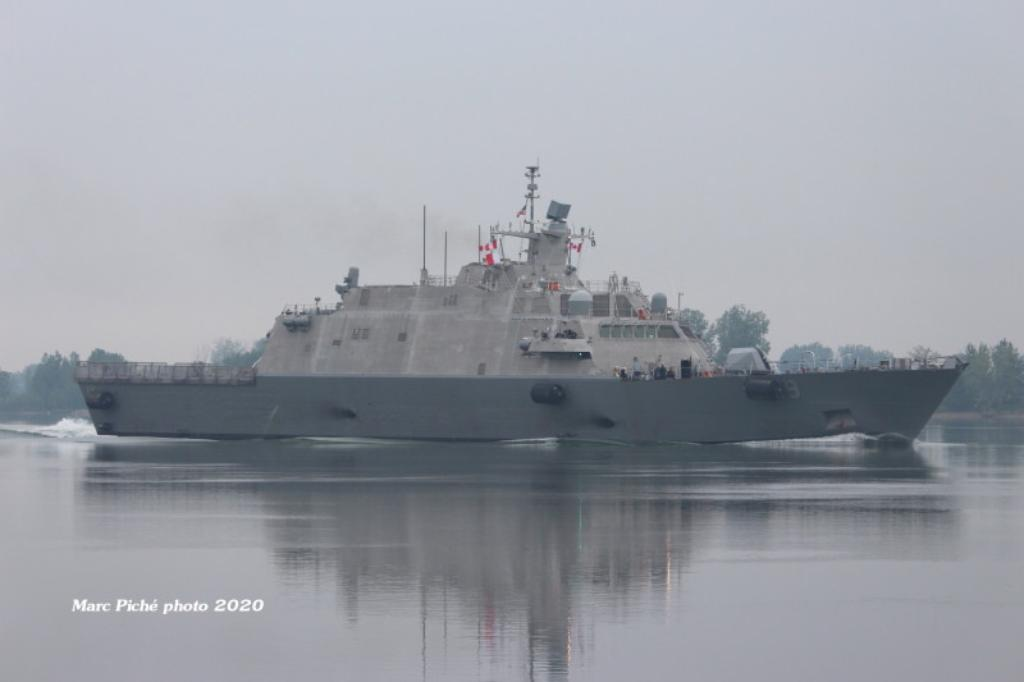Warship: (67, 156, 969, 448)
